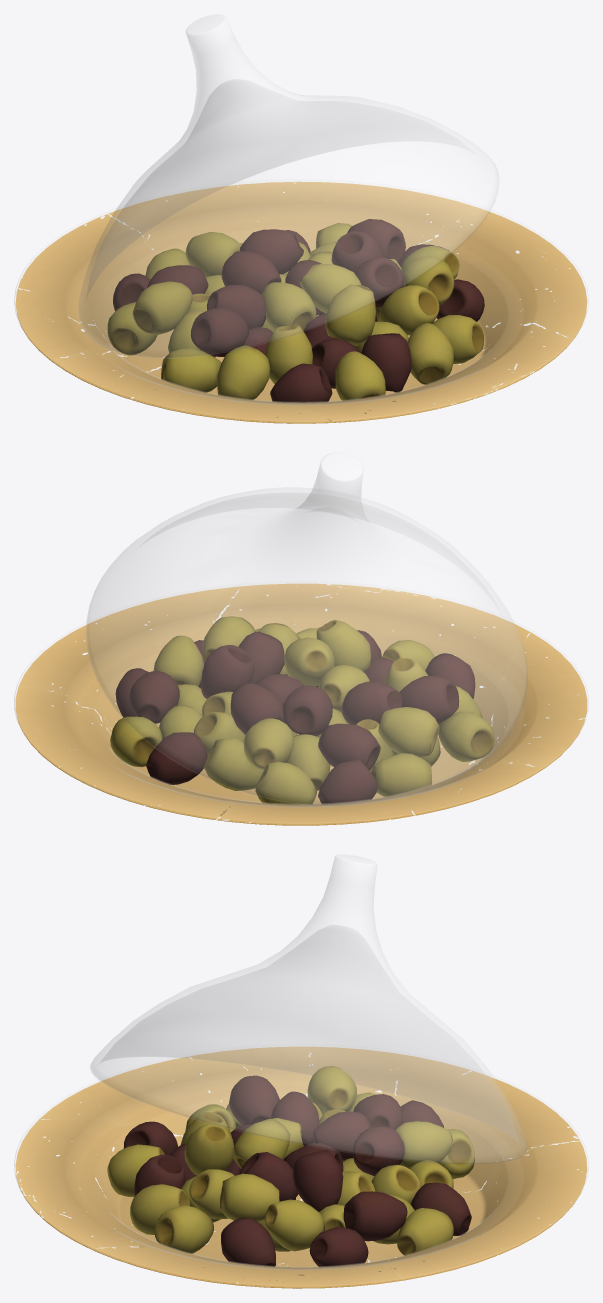
File: IridescentDishWithOlives.glb
3 views of the same model, one above another, from view 1: azimuth 30°, elevation 25°; view 2: azimuth 150°, elevation 25°; view 3: azimuth 270°, elevation 25° (orthographic).
Visible parts, largest first — view 1: glassCover, goldLeaf, glassDish, olives; view 2: glassCover, glassDish, goldLeaf, olives; view 3: glassCover, goldLeaf, olives, glassDish.
Boxes of the visible parts, box(x1,y1,x2,y2) form: glassCover: box(78, 14, 499, 358); goldLeaf: box(15, 181, 587, 423); glassDish: box(14, 179, 588, 422); olives: box(107, 219, 484, 402); glassCover: box(86, 452, 527, 805); glassDish: box(14, 581, 588, 824); goldLeaf: box(15, 583, 587, 825); olives: box(110, 616, 494, 804); glassCover: box(90, 854, 527, 1164); goldLeaf: box(15, 1047, 587, 1288); olives: box(107, 1066, 474, 1267); glassDish: box(14, 1057, 588, 1287).
Size of the model in its own units: 0.4593 by 0.2855 by 0.4593.
4 materials, 2 textured.
